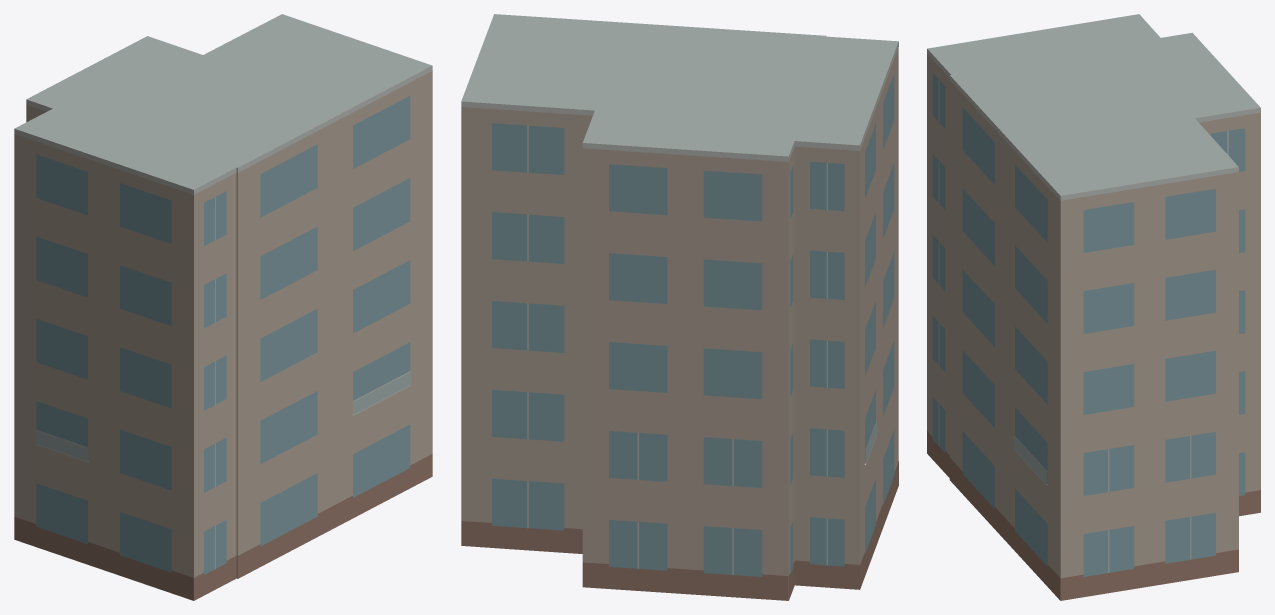
File: survey-upis-32844788.glb
3 renders of one model, left to right at view 1: azimuth 30°, elevation 25°; view 2: azimuth 150°, elevation 25°; view 3: azimuth 270°, elevation 25°, orthographic. The views are drawn at different scales.
Parts seen in each view (by area): view 1: survey-upis-32844788.tmp; view 2: survey-upis-32844788.tmp; view 3: survey-upis-32844788.tmp.
Part boxes in pixels (bbox=[...]): survey-upis-32844788.tmp: bbox=[14, 14, 432, 600]; survey-upis-32844788.tmp: bbox=[461, 14, 898, 600]; survey-upis-32844788.tmp: bbox=[927, 14, 1260, 600].
Bounding box in the file's own units: 19.23 × 19.95 × 14.91.
